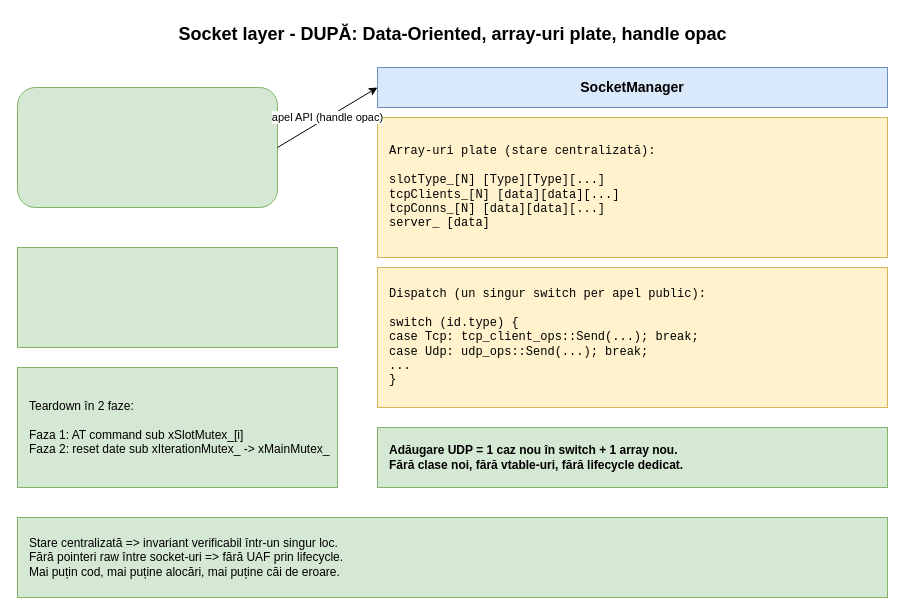
Image size: 905x615. Some labels were removed from this diagram. The shapes that lost their labels are listed below. From the top down, each one's box as (x1, y1, x2, y2) in pixels, then its label:
(16, 86, 278, 208): Cod utilizator SocketId { type, modemId } (handle opac, 2 octeți)
(16, 246, 338, 348): Invariant central: slotType_[i] == None date slot i în stare reset
